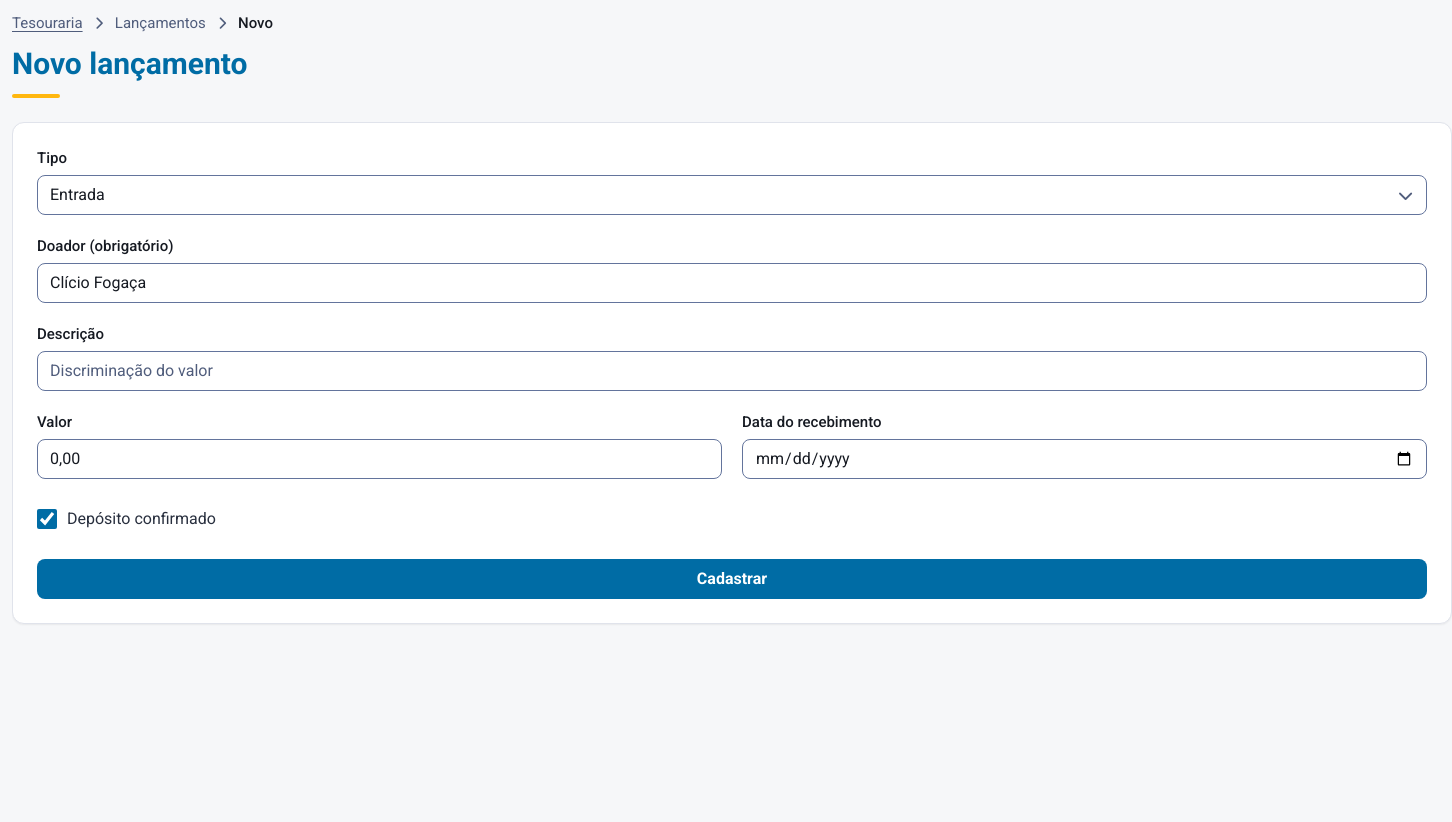
novo lançamento counterpart integration › clears the selected donor and deposit when changing to an exit
This screenshot has width=1452, height=822.
Select "Saída" in the dropdown with id "tipo": {"x": 732, "y": 195} [37,175,1427,215]
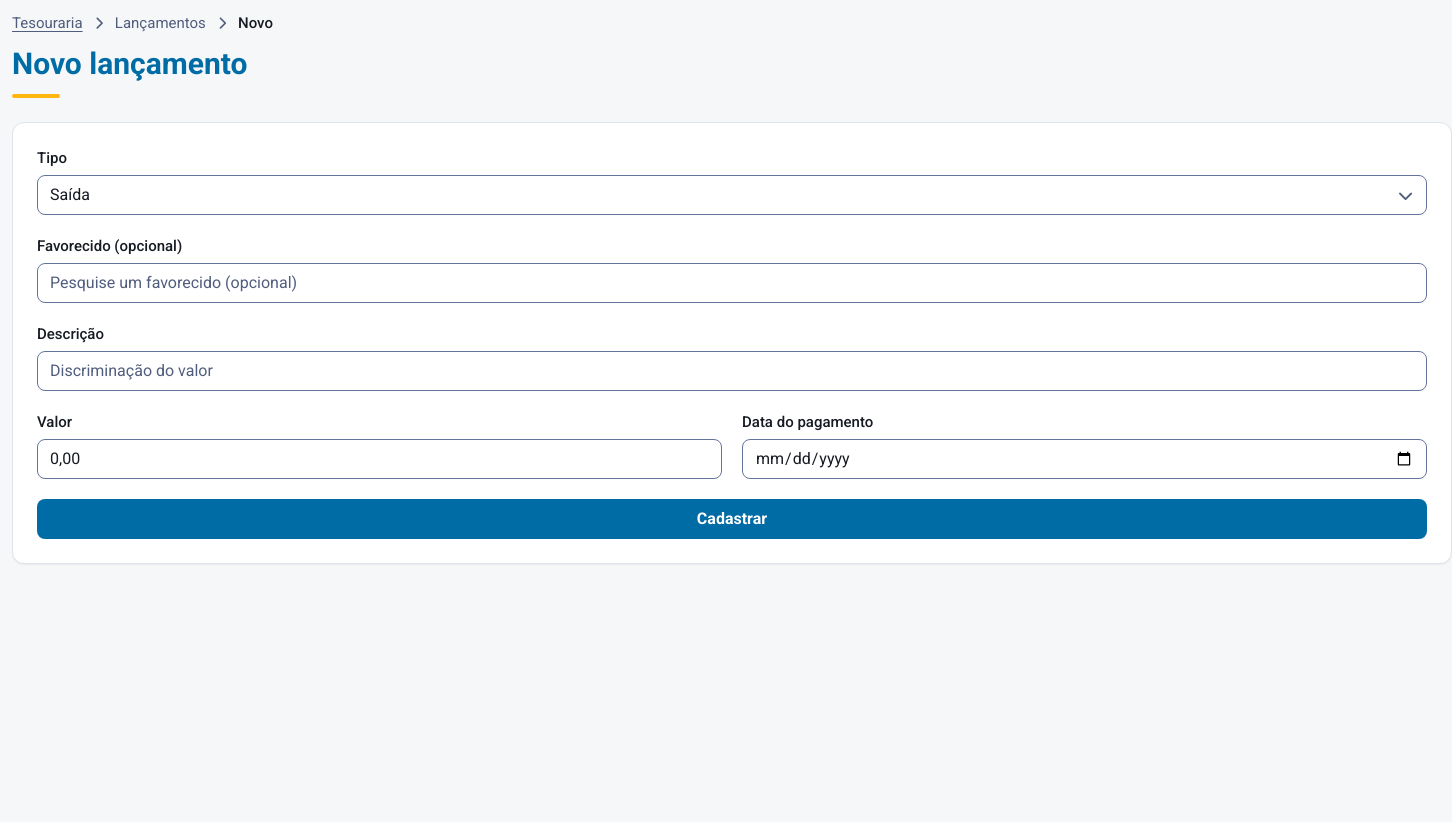
Expected: the dropdown with id "contraparteId" is empty, [37,263,1427,303]
Expected: the checkbox with id "depositado" is gone
